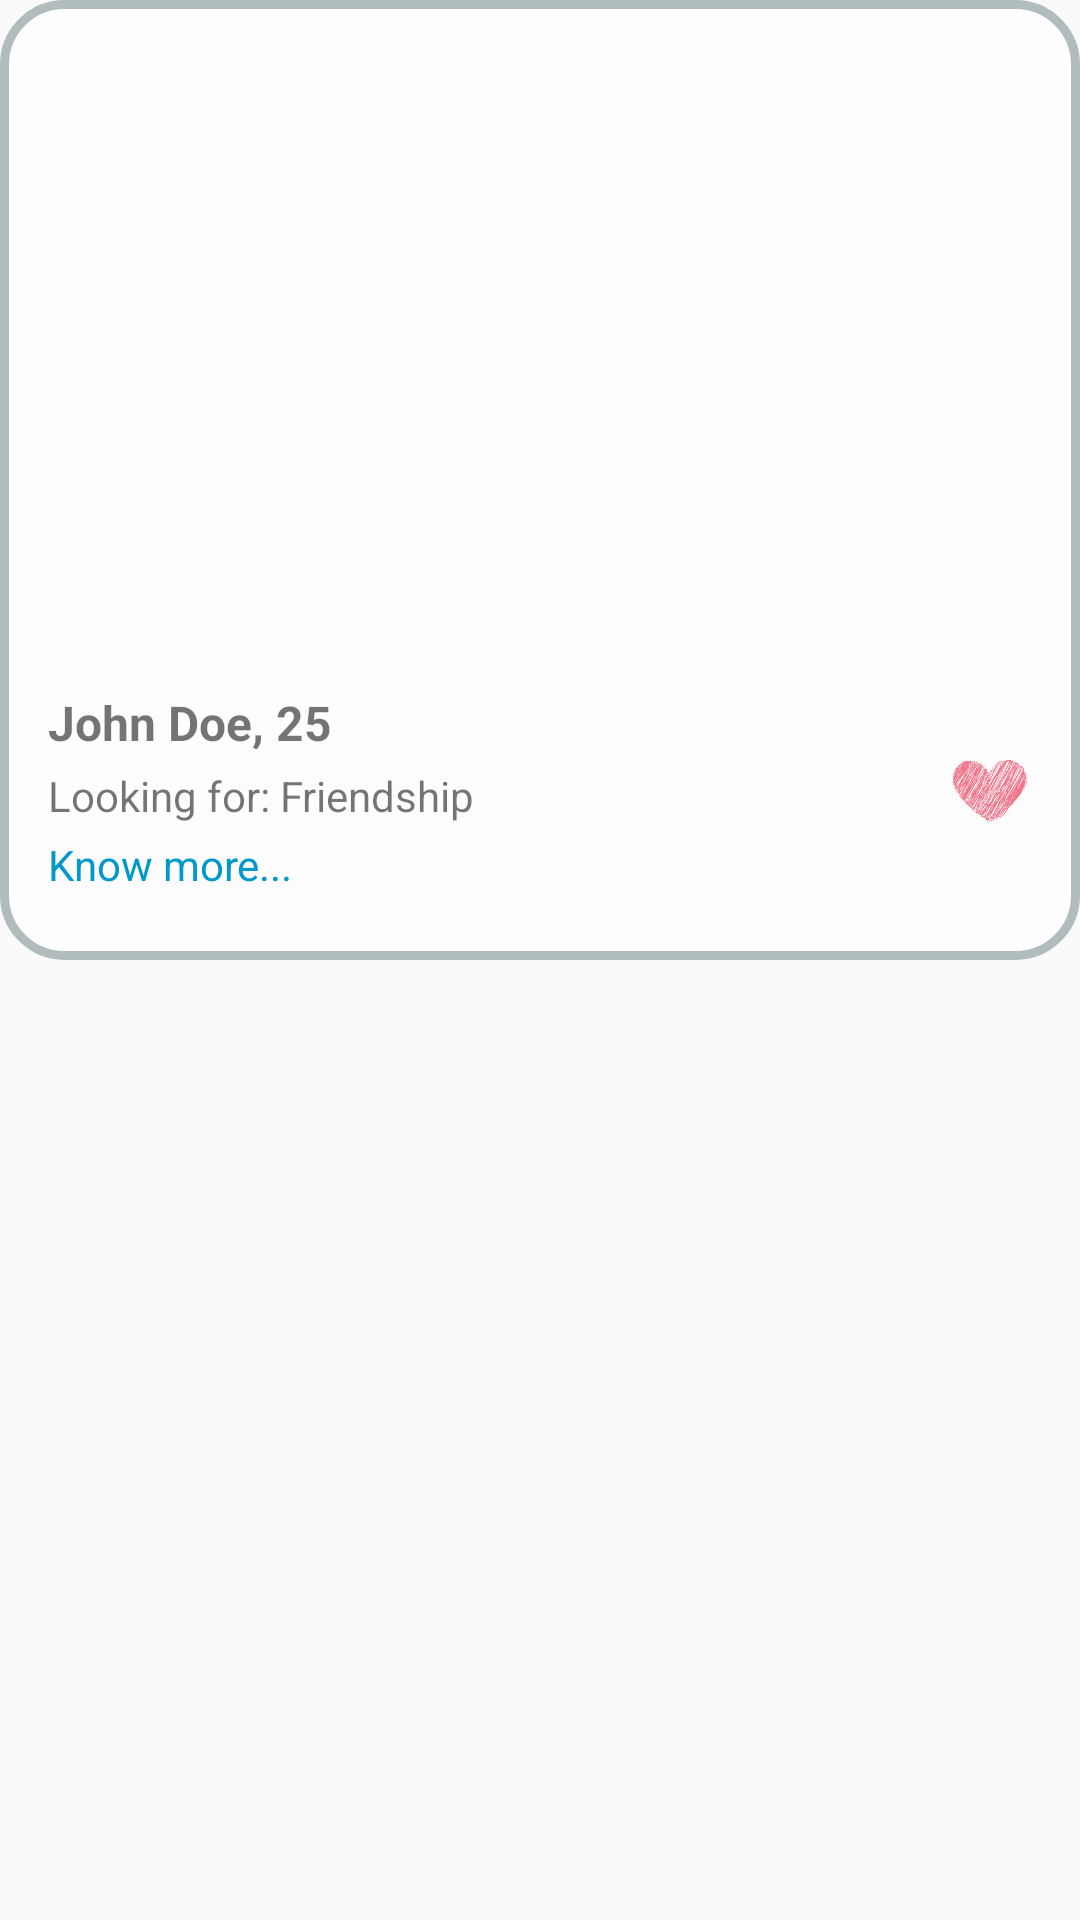

Point at icon controls on the screen. Image size 1080px×1920px, points as point (x, y).
heart: point (990, 791)
